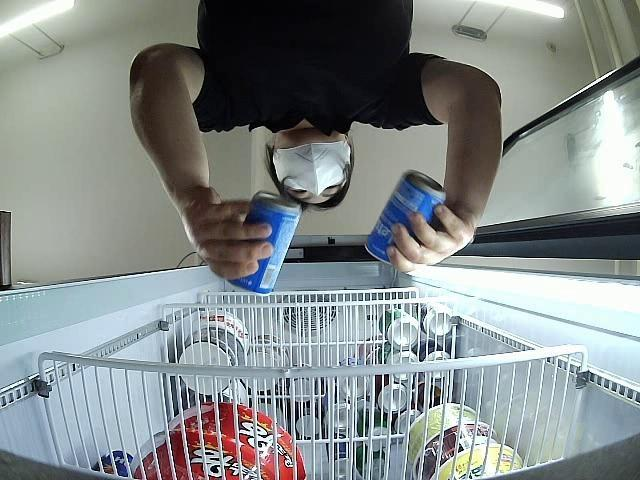15_letsbe: (228, 192, 301, 294), (366, 169, 444, 262)
